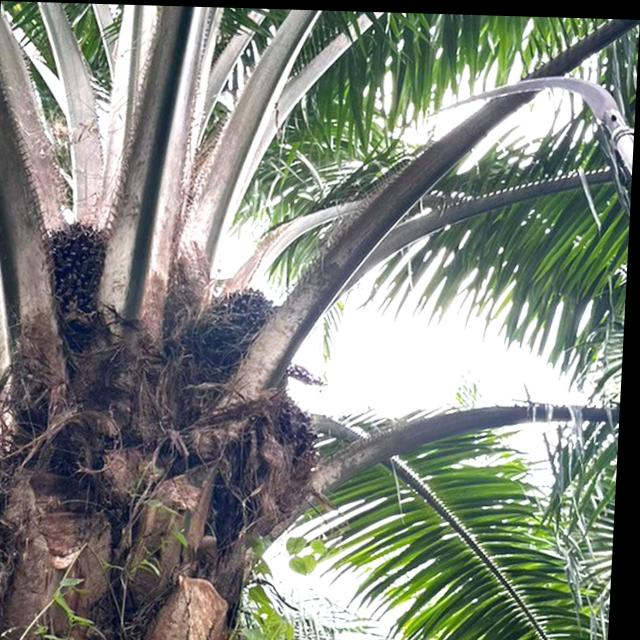unripe: (28, 203, 136, 344), (231, 377, 341, 510), (180, 274, 295, 395)
